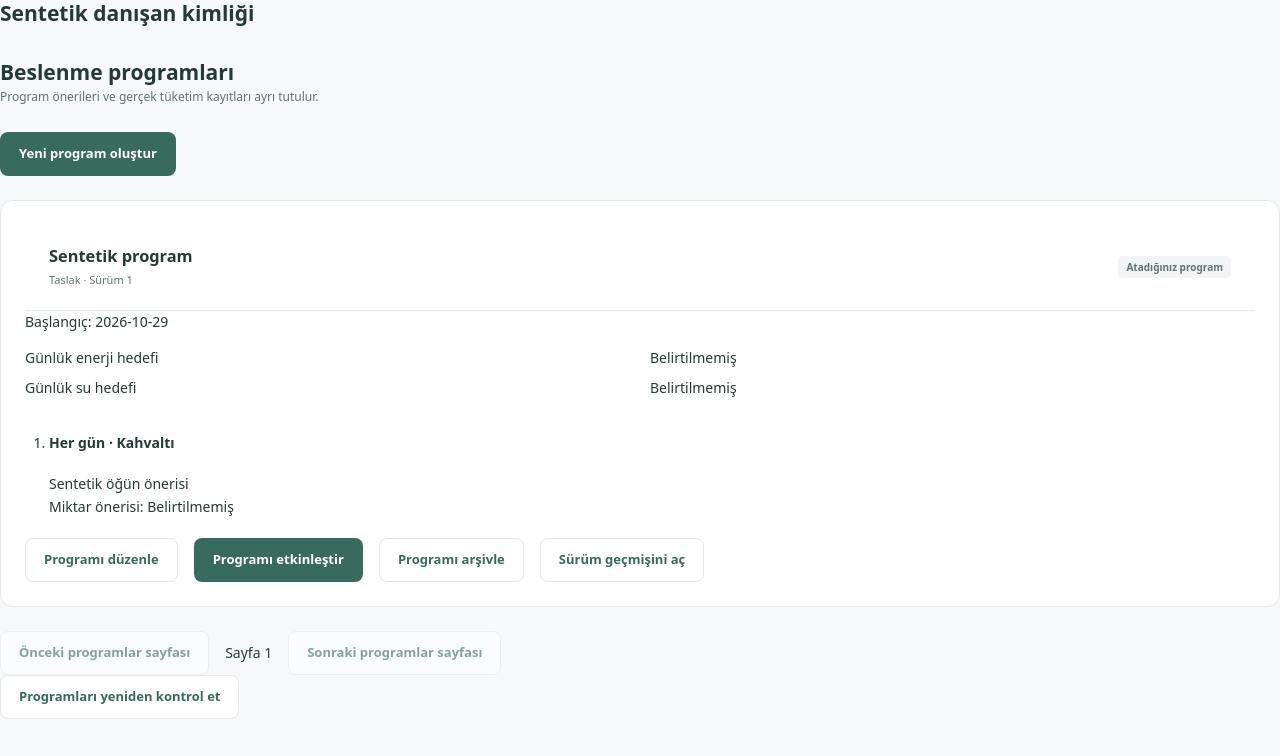
Scenario: nutrition program workspace › reads snapshots only under their parent program and offers no historical edit
Click the button "Sürüm geçmişini aç".
click(622, 560)  # box [540,538,704,582]
(page scrolled)
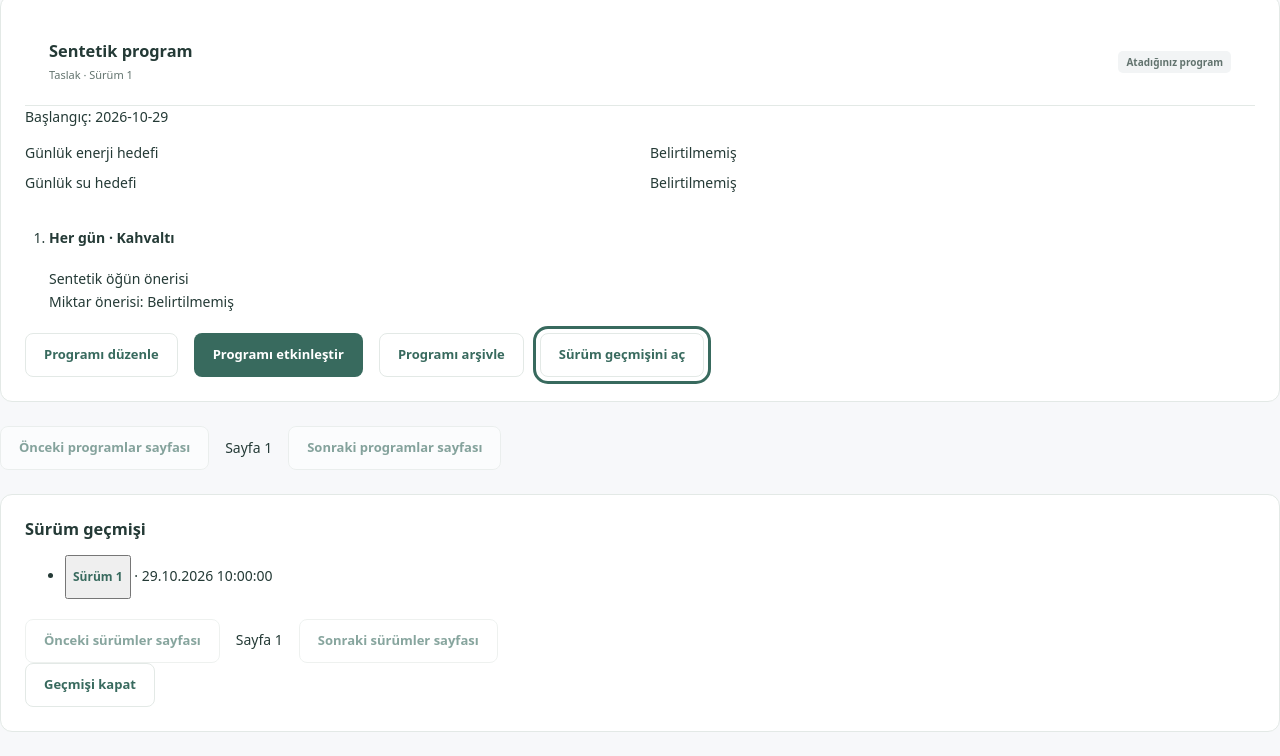
Click the button "Sürüm 1".
click(98, 576)  # box [65,554,131,598]
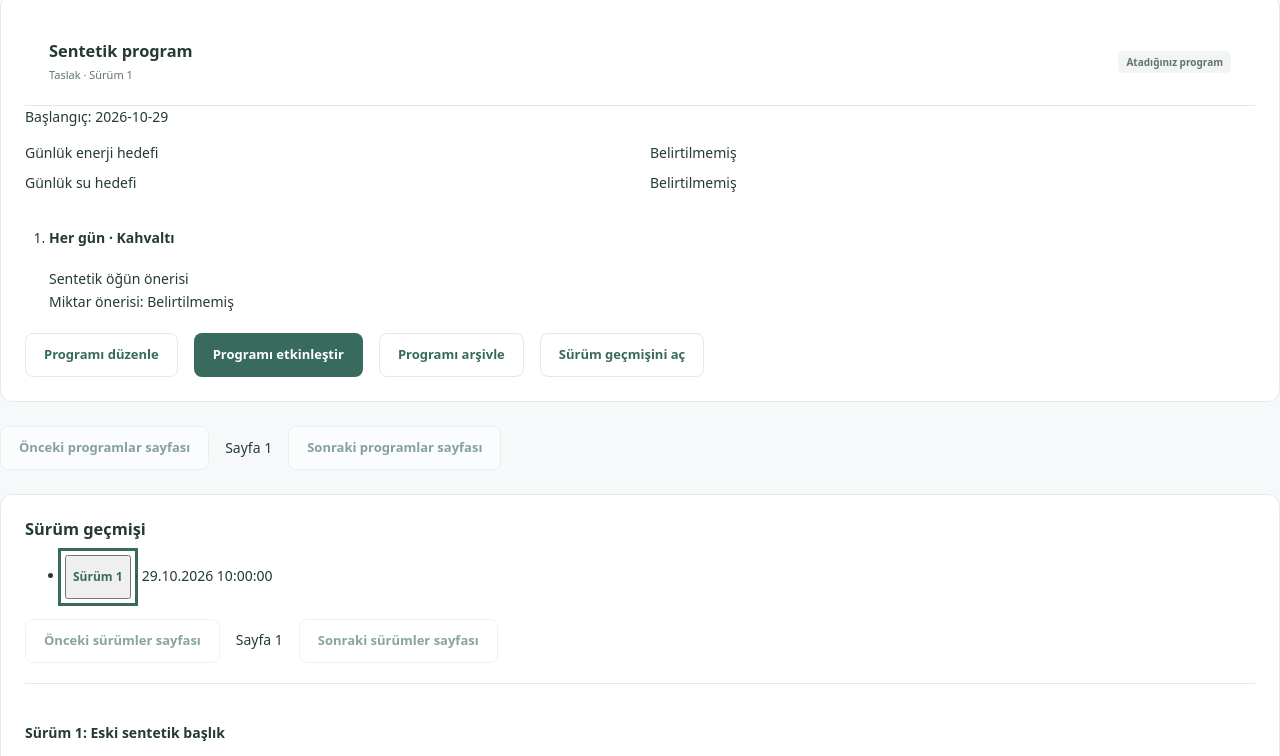
Check: the heading "Sentetik program" is shown, box [49,41,193,62]
Check: the heading "Sürüm 1: Eski sentetik başlık" is shown, box [25,723,225,742]
